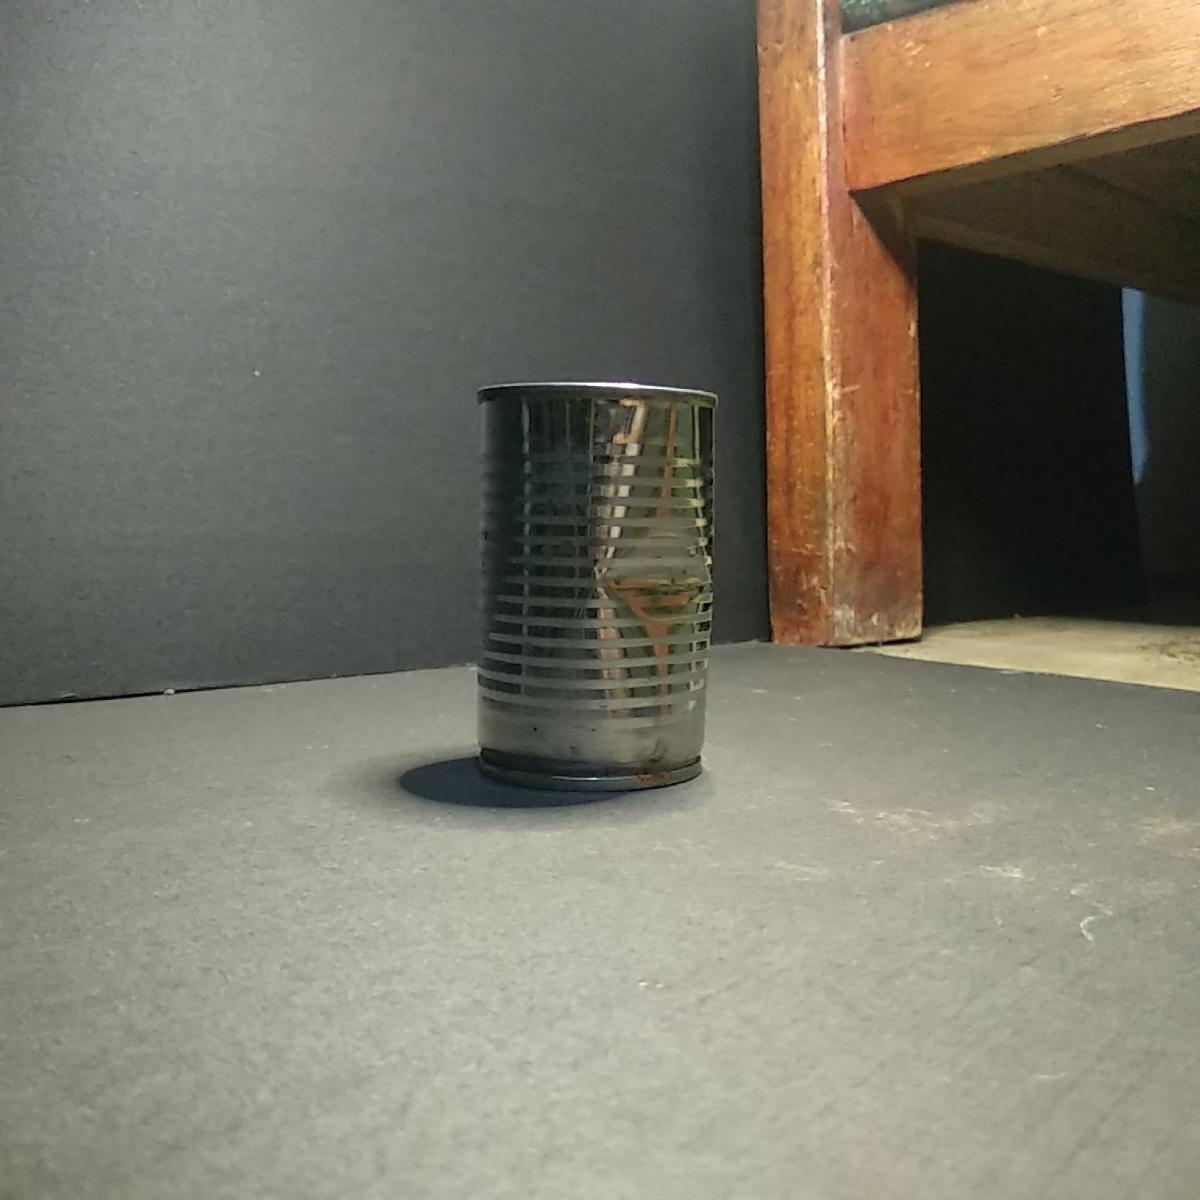Dented: (468, 358, 734, 800)
